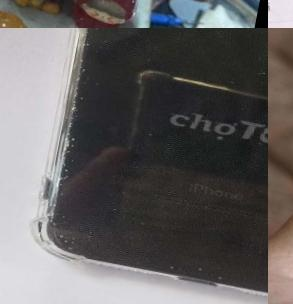scratch: (21, 28, 146, 257), (155, 251, 268, 295)
